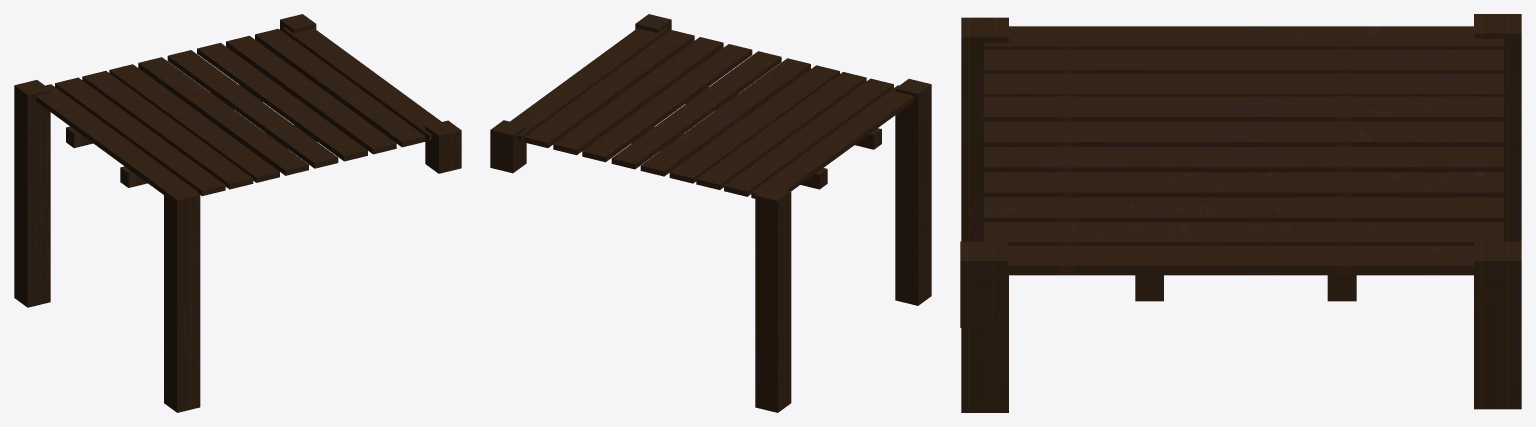
The model's file is ramp.gltf.
3 views of the same model, side by side, from view 1: azimuth 30°, elevation 25°; view 2: azimuth 150°, elevation 25°; view 3: azimuth 270°, elevation 25° (orthographic). The views are drawn at different scales.
Visible parts, largest first — view 1: Cube, Cube.012, Cube.013, Cube.001, Cube.002; view 2: Cube, Cube.013, Cube.012, Cube.002, Cube.001; view 3: Cube, Cube.012, Cube.013, Cube.002, Cube.001, Cube.004, Cube.003.
Part boxes in pixels (x1,y1,x2,y2): Cube: [36, 27, 441, 196]; Cube.012: [164, 185, 200, 412]; Cube.013: [14, 80, 50, 307]; Cube.001: [425, 120, 461, 173]; Cube.002: [280, 14, 316, 33]; Cube: [510, 28, 914, 198]; Cube.013: [755, 185, 791, 412]; Cube.012: [895, 79, 931, 305]; Cube.002: [490, 120, 526, 173]; Cube.001: [635, 14, 671, 32]; Cube: [984, 26, 1503, 275]; Cube.012: [961, 17, 1008, 412]; Cube.013: [1474, 14, 1521, 409]; Cube.002: [1474, 241, 1521, 327]; Cube.001: [960, 241, 1007, 327]; Cube.004: [1327, 275, 1356, 301]; Cube.003: [1135, 275, 1163, 301].
Size of the model in its own units: 40.86 by 28.91 by 38.98.
Materials: 1 (1 with a texture image).
